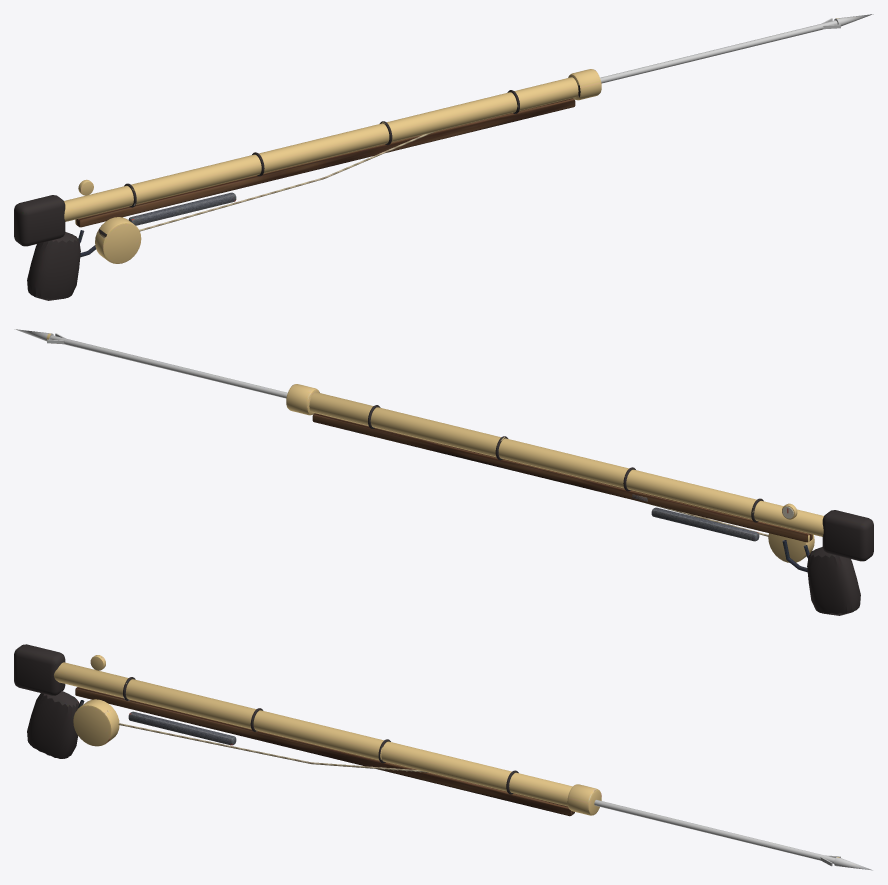
Rendered from longspeargun.glb.
3 renders of one model, top to bottom at view 1: azimuth 30°, elevation 25°; view 2: azimuth 150°, elevation 25°; view 3: azimuth 330°, elevation 25°, orthographic.
Visible parts, largest first — view 1: air_tube, rail, grip, butt, reel, shaft, charge_lever, line, muzzle_head; view 2: air_tube, rail, grip, butt, shaft, charge_lever, reel, muzzle_head; view 3: air_tube, rail, grip, butt, reel, shaft, charge_lever, muzzle_head, line.
Part boxes in pixels (x1,y1,x2,y2): air_tube: (64, 77, 578, 221); rail: (75, 98, 575, 227); grip: (27, 232, 80, 300); butt: (14, 195, 65, 246); reel: (95, 217, 141, 263); shaft: (600, 20, 837, 83); charge_lever: (128, 192, 236, 225); line: (139, 132, 433, 231); muzzle_head: (568, 69, 601, 100); air_tube: (309, 392, 823, 536); rail: (312, 413, 812, 542); grip: (807, 547, 860, 615); butt: (822, 510, 873, 561); shaft: (50, 335, 287, 398); charge_lever: (651, 507, 759, 541); reel: (768, 533, 814, 562); muzzle_head: (286, 384, 319, 415); air_tube: (54, 662, 572, 806); rail: (75, 687, 574, 816); grip: (27, 691, 79, 758); butt: (14, 644, 65, 695); reel: (73, 699, 119, 746); shaft: (594, 799, 835, 863); charge_lever: (128, 711, 236, 745); muzzle_head: (567, 784, 601, 815); line: (118, 723, 429, 772).
Bounding box in the file's own units: 1.14 × 0.1337 × 0.0534.
Materials: 1 (1 with a texture image).
